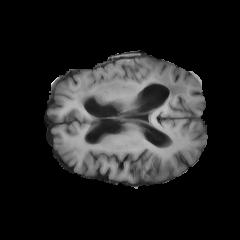glioma: (78, 57, 187, 104)
